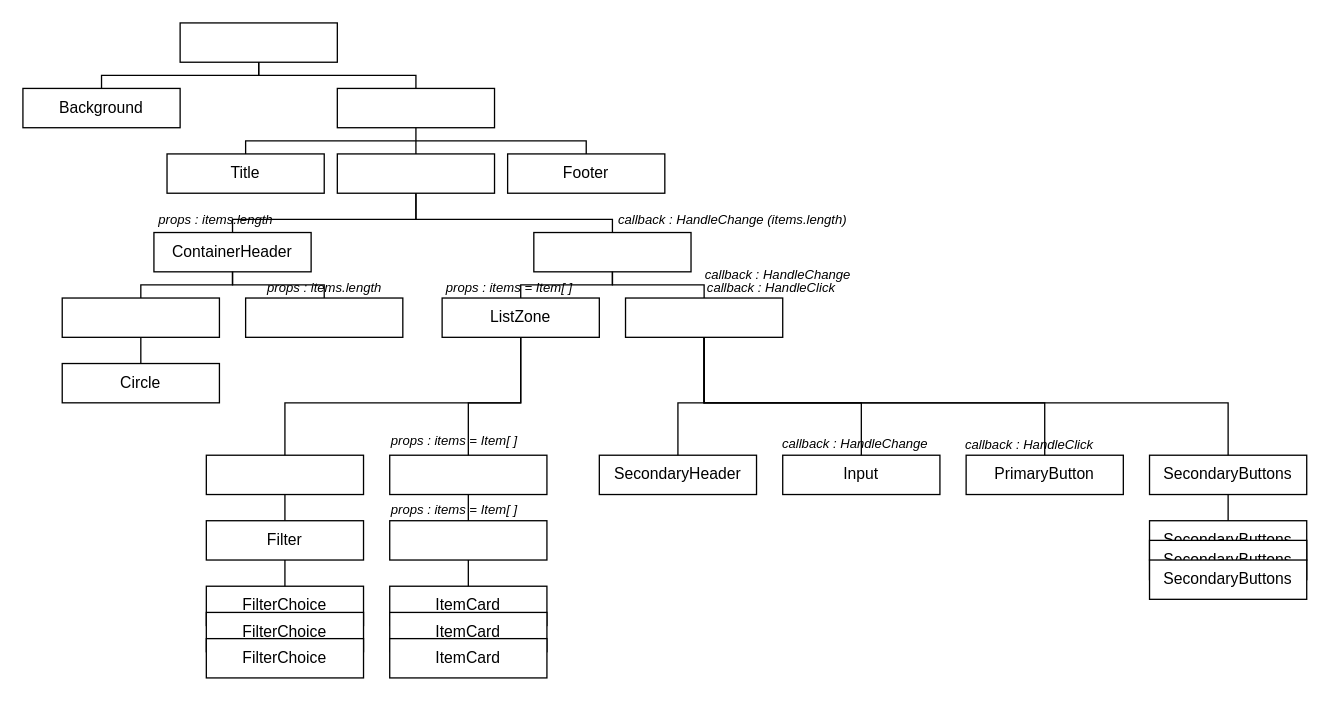
This 1330x701 diagram has some shape labels left out. Each missing label, with the centre of its shape:
"App" goes at point (258, 42).
"Circles" goes at point (140, 317).
"ComandsZone" goes at point (703, 317).
"Container" goes at point (415, 173).
"ContainerMain" goes at point (612, 251).
"Content" goes at point (415, 107).
"FilterContainer" goes at point (284, 474).
"Items" goes at point (467, 539).
"ItemsListContainer" goes at point (467, 474).
"PackedItem" goes at point (323, 317).
